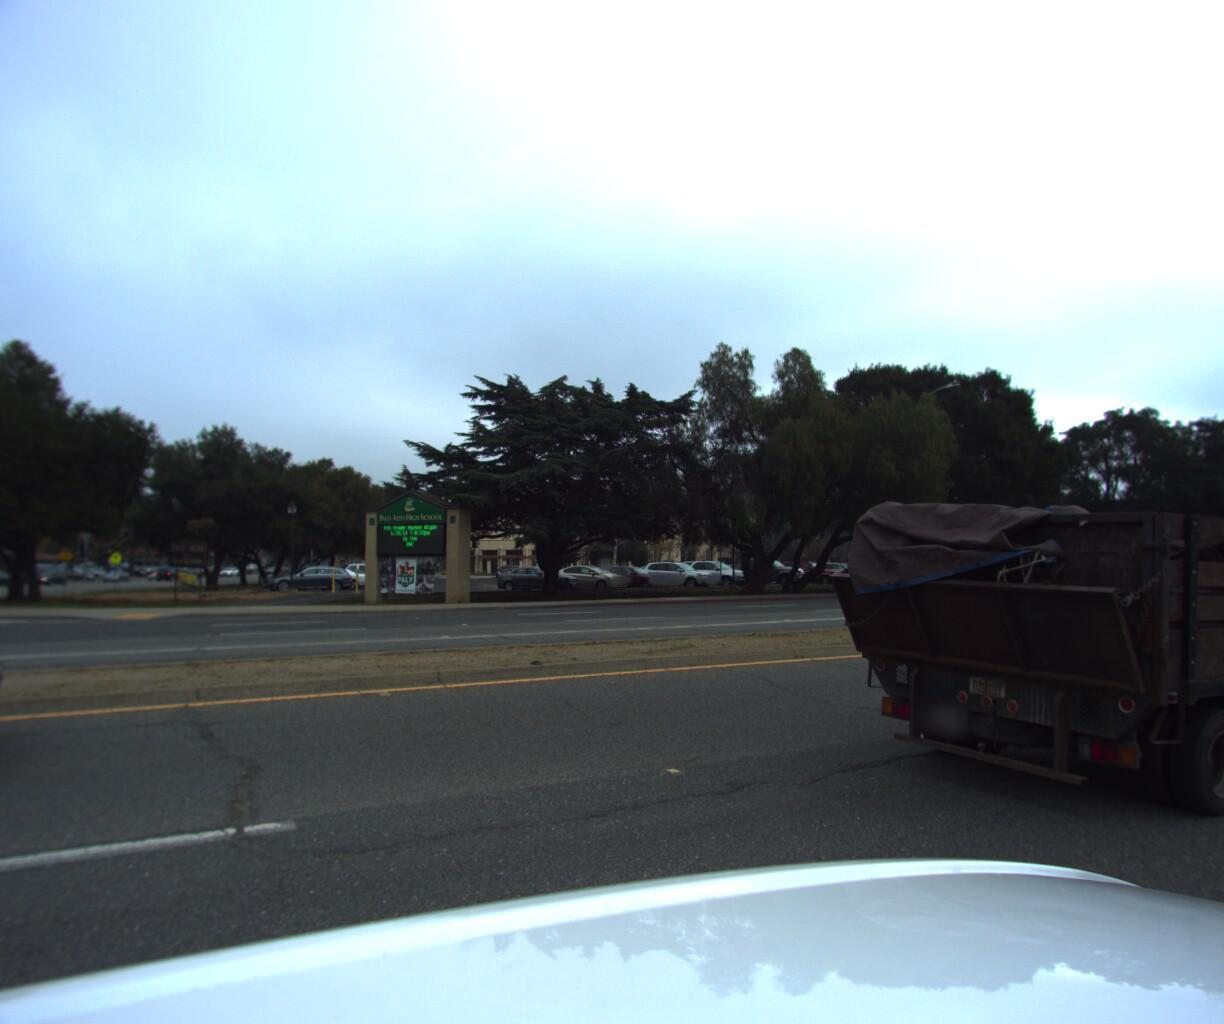car: (802, 446, 1224, 851), (0, 482, 34, 949)
